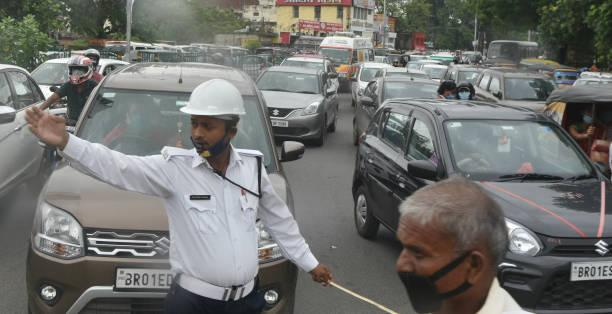AMBULANCE: (320, 34, 378, 67)
